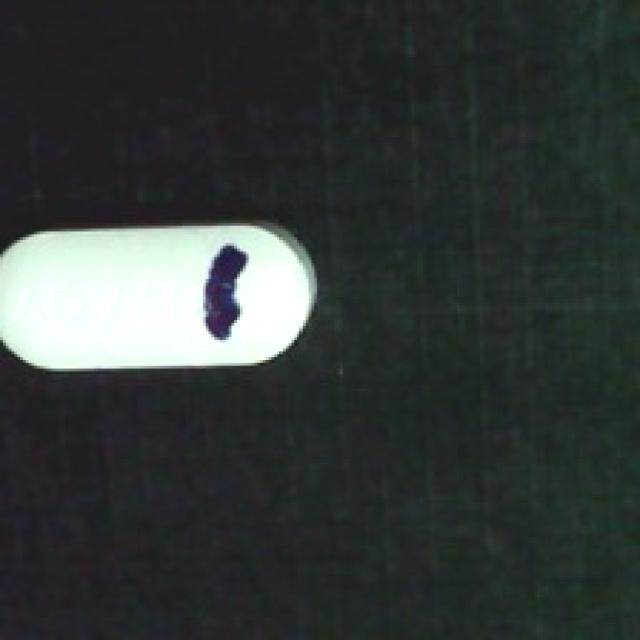defected: (0, 214, 326, 383)
